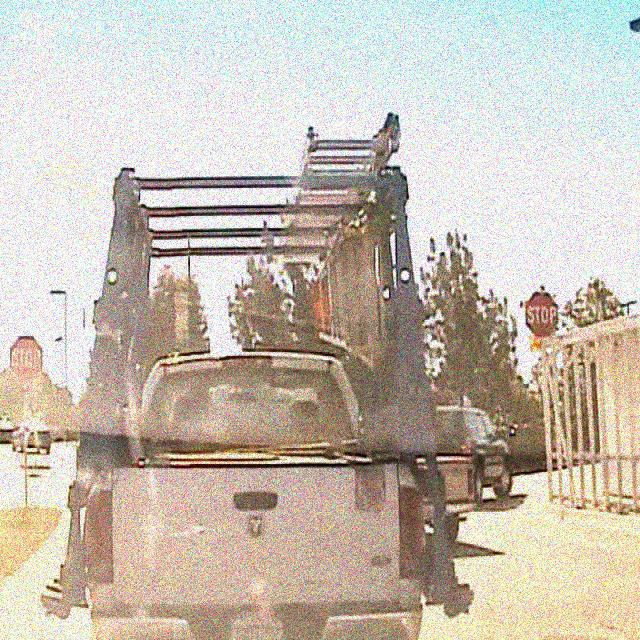stop_sign: (9, 335, 43, 380), (525, 291, 558, 336)
